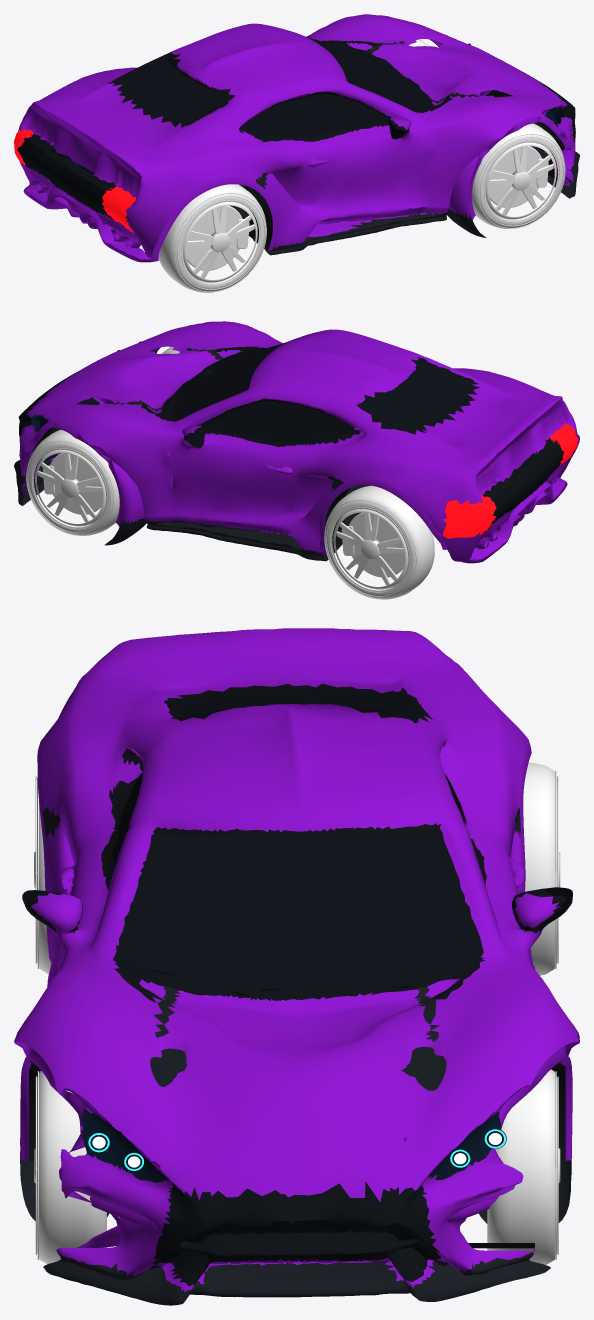
3 views of the same model, one above another, from view 1: azimuth 30°, elevation 25°; view 2: azimuth 150°, elevation 25°; view 3: azimuth 270°, elevation 25° (orthographic). The views are drawn at different scales.
Parts seen in each view (by area): view 1: Amethyst_paint, Amethyst_glass, Wheel_BR_Spectre_Road_Tires_BR_Vanguard, Amethyst_grille, Amethyst_seal, Amethyst_trim, Wheel_FR_Spectre_Road_Tires_FR_Vanguard, Wheel_BR_Spectre_Split_Five_Spoke_BR_Vanguard, Amethyst_arch, Wheel_FR_Spectre_Split_Five_Spoke_FR_Vanguard, Wheel_BR_Spectre_Brake_Rotors_BR_Vanguard, Wheel_FR_Spectre_Brake_Rotors_FR_Vanguard (+2 smaller); view 2: Amethyst_paint, Amethyst_glass, Wheel_BL_Spectre_Road_Tires_BL_Vanguard, Amethyst_trim, Amethyst_seal, Amethyst_grille, Wheel_FL_Spectre_Road_Tires_FL_Vanguard, Wheel_BL_Spectre_Split_Five_Spoke_BL_Vanguard, Wheel_FL_Spectre_Split_Five_Spoke_FL_Vanguard, Amethyst_taillight, Amethyst_arch, Wheel_BL_Spectre_Brake_Rotors_BL_Vanguard (+2 smaller); view 3: Amethyst_paint, Amethyst_glass, Amethyst_grille, Amethyst_trim, Amethyst_seal, Wheel_FL_Spectre_Road_Tires_FL_Vanguard, Wheel_FR_Spectre_Road_Tires_FR_Vanguard, Amethyst_arch, Wheel_BL_Spectre_Road_Tires_BL_Vanguard, Amethyst_lens, Amethyst_wheelhouse, Wheel_BR_Spectre_Road_Tires_BR_Vanguard.
Part boxes in pixels (<box>): Amethyst_paint: <box>18,14,575,262</box>; Amethyst_glass: <box>118,36,423,139</box>; Wheel_BR_Spectre_Road_Tires_BR_Vanguard: <box>158,184,266,292</box>; Amethyst_grille: <box>17,62,575,218</box>; Amethyst_seal: <box>108,40,452,141</box>; Amethyst_trim: <box>229,41,579,255</box>; Wheel_FR_Spectre_Road_Tires_FR_Vanguard: <box>472,123,565,228</box>; Wheel_BR_Spectre_Split_Five_Spoke_BR_Vanguard: <box>183,202,257,282</box>; Amethyst_arch: <box>151,39,571,261</box>; Wheel_FR_Spectre_Split_Five_Spoke_FR_Vanguard: <box>485,142,556,219</box>; Wheel_BR_Spectre_Brake_Rotors_BR_Vanguard: <box>186,205,242,270</box>; Wheel_FR_Spectre_Brake_Rotors_FR_Vanguard: <box>488,146,541,207</box>; Amethyst_paint: <box>19,321,579,563</box>; Amethyst_glass: <box>163,342,472,447</box>; Wheel_BL_Spectre_Road_Tires_BL_Vanguard: <box>324,485,434,599</box>; Amethyst_trim: <box>14,348,370,561</box>; Amethyst_seal: <box>141,346,479,448</box>; Amethyst_grille: <box>18,371,563,528</box>; Wheel_FL_Spectre_Road_Tires_FL_Vanguard: <box>26,429,119,535</box>; Wheel_BL_Spectre_Split_Five_Spoke_BL_Vanguard: <box>333,509,408,589</box>; Wheel_FL_Spectre_Split_Five_Spoke_FL_Vanguard: <box>35,449,106,526</box>; Amethyst_taillight: <box>442,423,578,538</box>; Amethyst_arch: <box>21,347,447,554</box>; Wheel_BL_Spectre_Brake_Rotors_BL_Vanguard: <box>348,512,404,577</box>; Amethyst_paint: <box>14,628,579,1291</box>; Amethyst_glass: <box>22,686,572,992</box>; Amethyst_grille: <box>153,1181,441,1286</box>; Amethyst_trim: <box>20,807,571,1305</box>; Amethyst_seal: <box>26,683,566,1002</box>; Wheel_FL_Spectre_Road_Tires_FL_Vanguard: <box>487,1069,558,1264</box>; Wheel_FR_Spectre_Road_Tires_FR_Vanguard: <box>35,1071,106,1264</box>; Amethyst_arch: <box>14,741,579,1252</box>; Wheel_BL_Spectre_Road_Tires_BL_Vanguard: <box>523,762,558,975</box>; Amethyst_lens: <box>81,1107,500,1182</box>; Amethyst_wheelhouse: <box>29,1059,565,1248</box>; Wheel_BR_Spectre_Road_Tires_BR_Vanguard: <box>35,776,51,974</box>.
Bounding box in the file's own units: 145 × 51.07 × 77.41.
